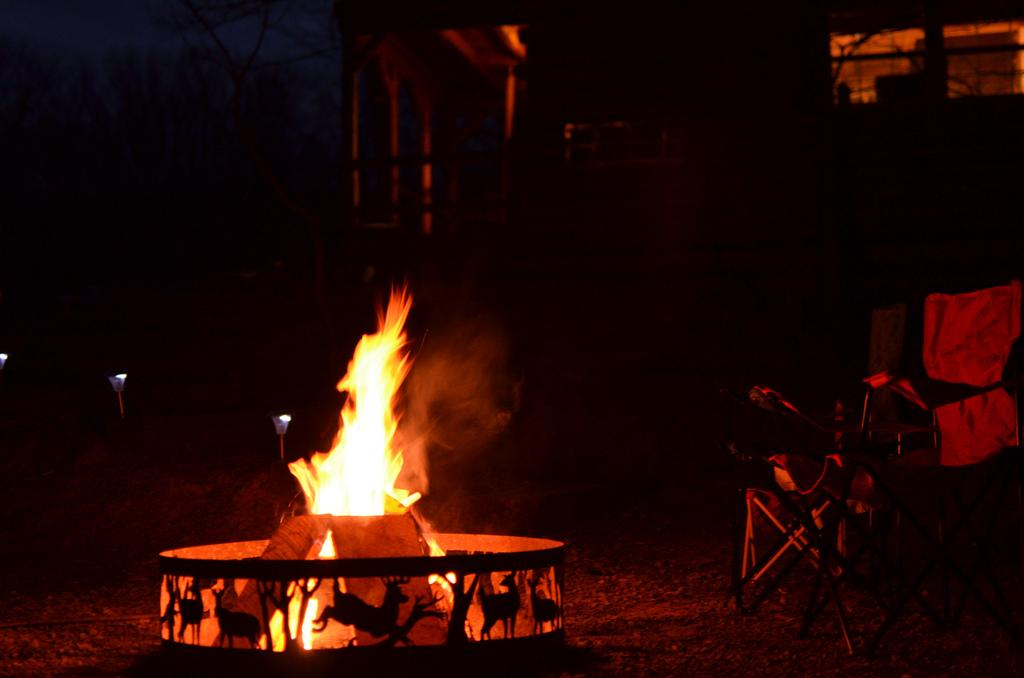fire: (340, 333, 407, 500)
